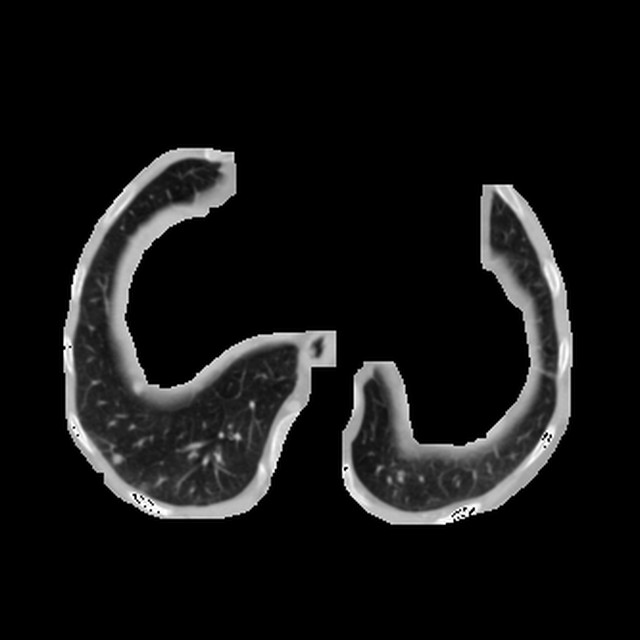PN: (113, 455, 121, 463)
